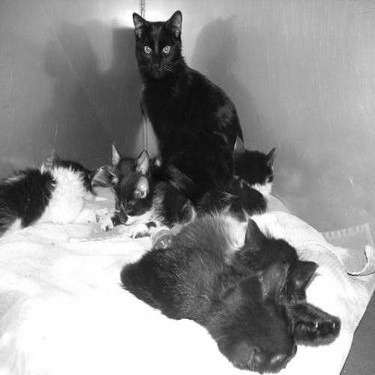cat: (81, 217, 347, 351), (124, 6, 248, 187), (1, 140, 153, 233), (171, 132, 274, 230)
